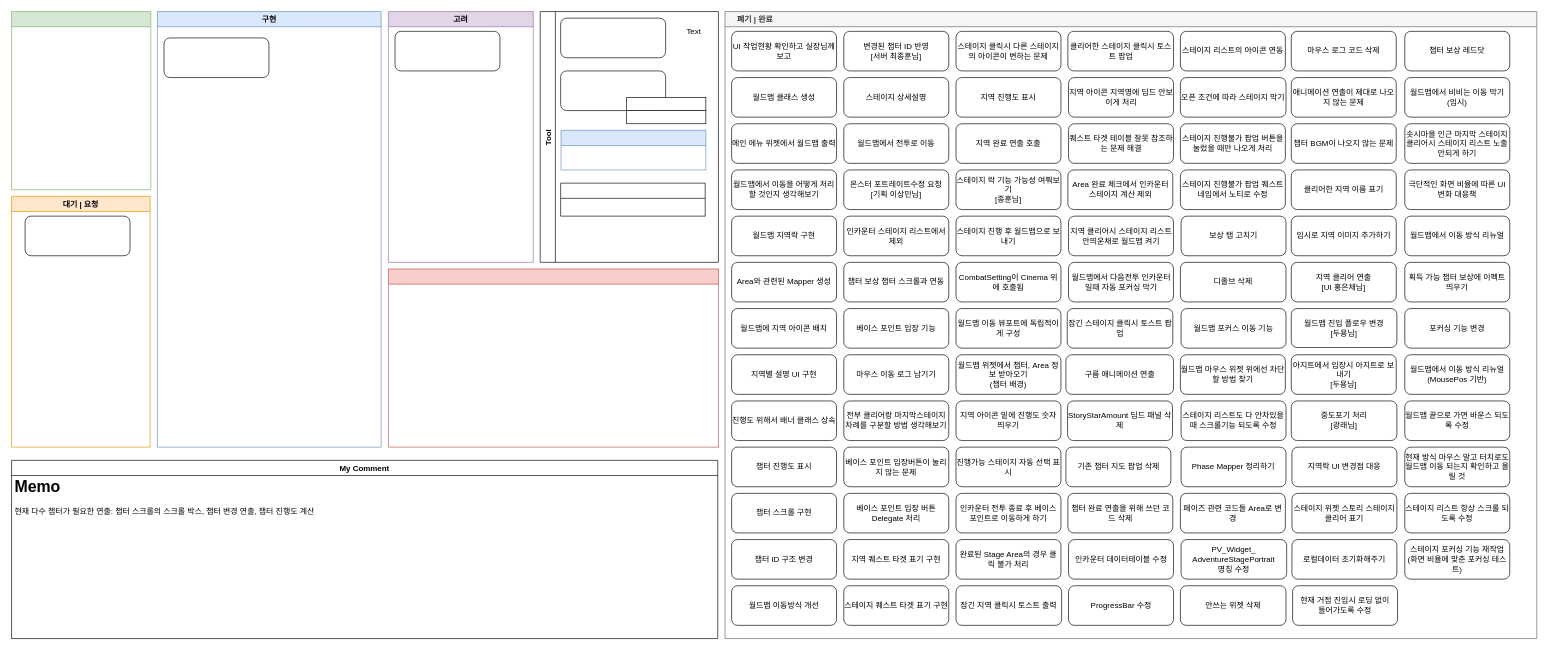
This 1548x650 diagram has some shape labels left out. The centre of each missing label's shape, as x and y in pixels:
Public으로 열어놓은 데이터 값 정해지면 삭제하기: the point at 447,51
분석 | 논의: the point at 81,100
에러 | 수정: the point at 553,357
챕터 변경 연출 (다수 챕터 필요한 모든 연출) [기획 이푸른님]: the point at 77,235
텍스트 맵 엘리먼트로 스타일을 추가했을떄 기본적으로 적용되는 스타일이 적용되지않는 문제 수정: the point at 216,57
